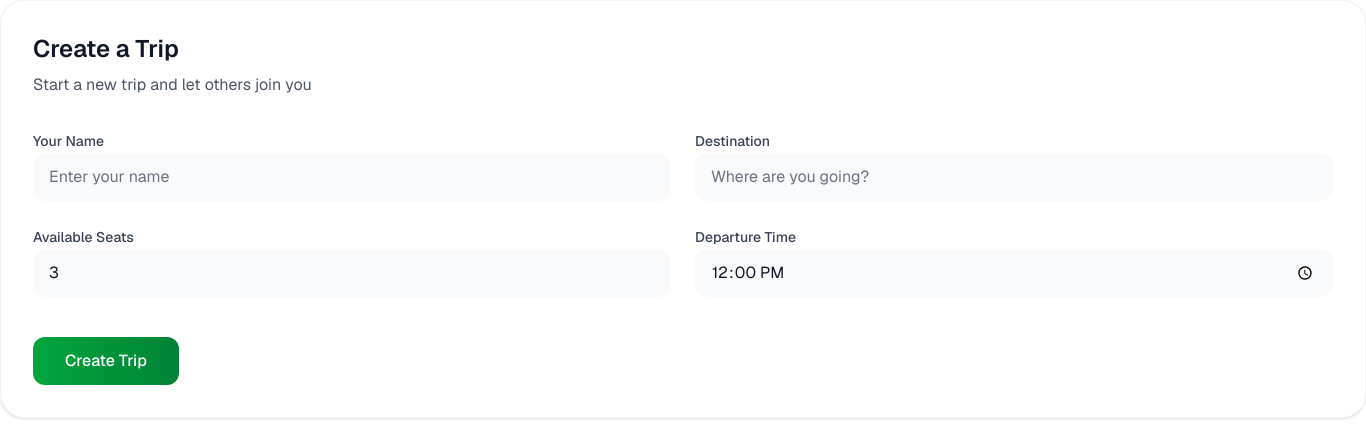
Test case: TripForm › resets form after successful submission
Type "Bob" into the field with placeholder "Enter your name" at (352, 177), box [33,153,671,201]
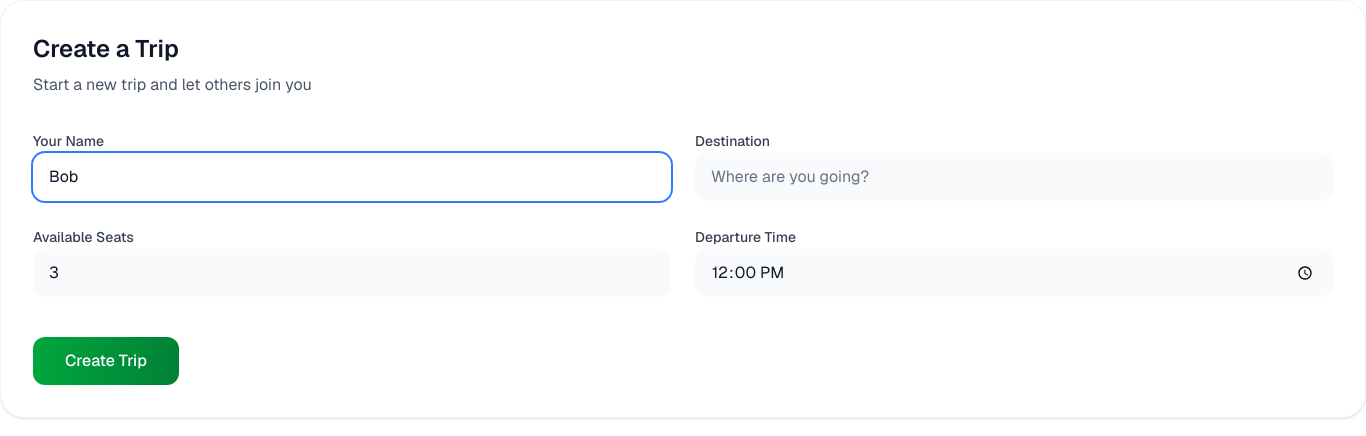
Type "Hamburg" into the field with placeholder "Where are you going?" at (1014, 177), box [695,153,1333,201]
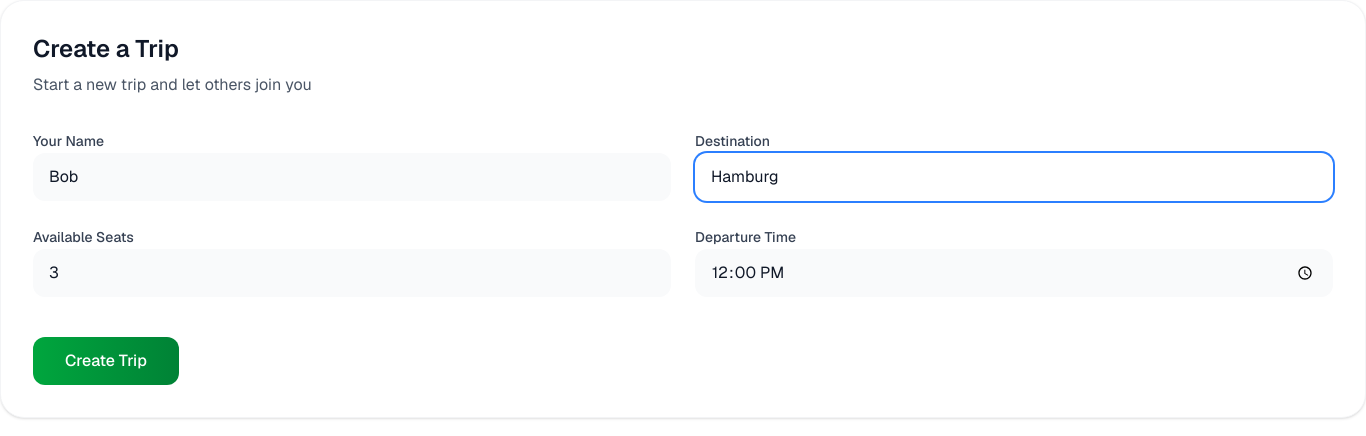
Replace the text in the time field showing "12:00" with "15:00" at (1014, 273), box [695,249,1333,297]
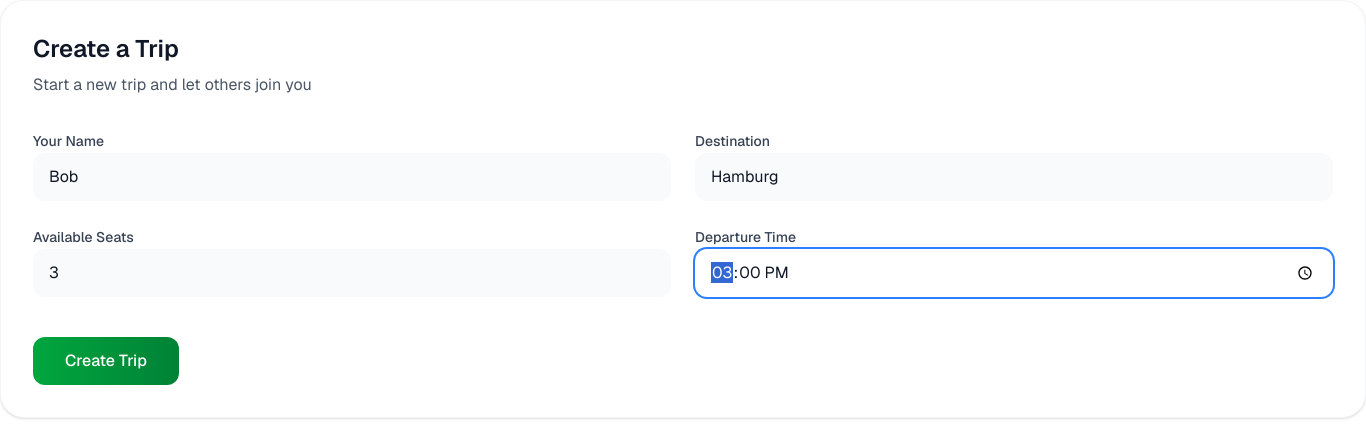
Click the button "Create Trip" at (106, 361), box [33,337,179,385]
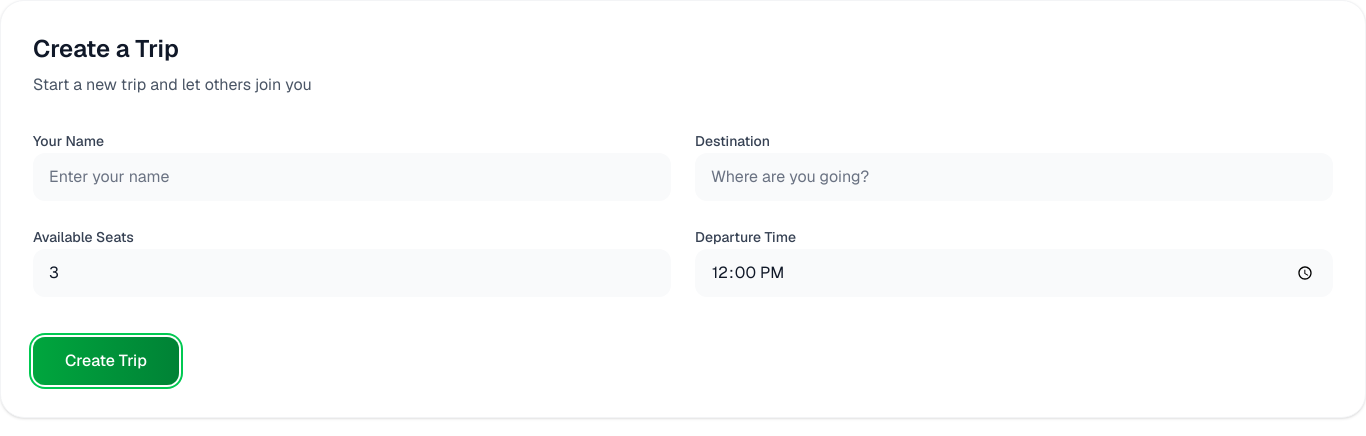
Expected: the field with placeholder "Enter your name" is empty, [33,153,671,201]
Expected: the field with placeholder "Where are you going?" is empty, [695,153,1333,201]
Expected: the time field showing "12:00" holds "12:00", [695,249,1333,297]
